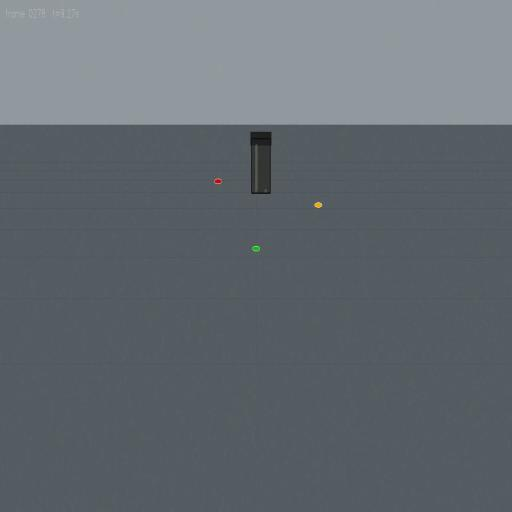bin: (250, 131, 272, 195)
